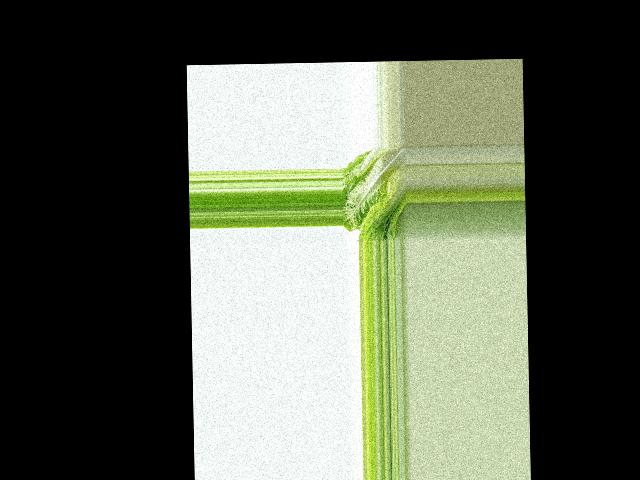lettuce: (342, 146, 407, 243)
